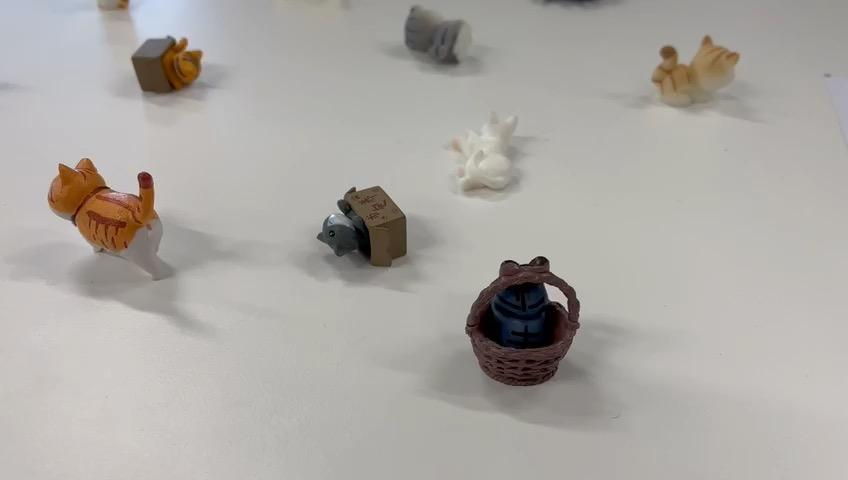pet: (38, 118, 180, 274), (463, 240, 593, 409), (286, 166, 419, 286), (431, 108, 548, 217), (638, 18, 752, 118), (123, 26, 214, 108), (398, 3, 475, 93)
